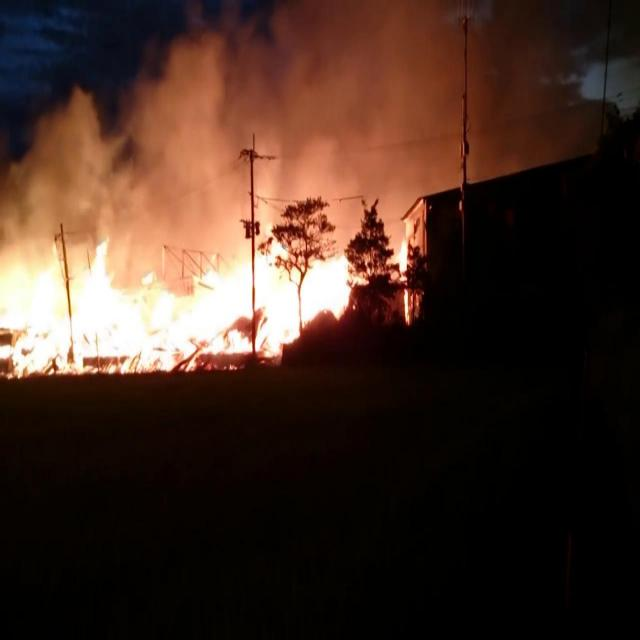fire: (3, 34, 403, 378)
